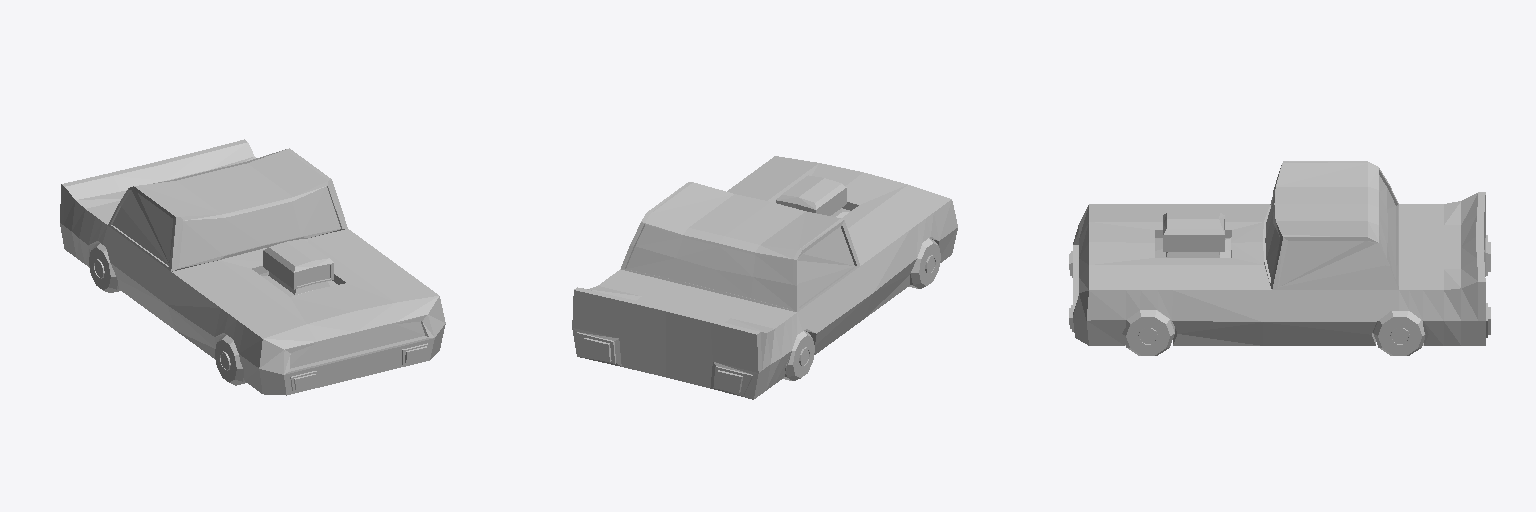
The model's file is RaceCar.obj.
3 renders of one model, left to right at view 1: azimuth 30°, elevation 25°; view 2: azimuth 150°, elevation 25°; view 3: azimuth 270°, elevation 25°, orthographic.
Visible parts, largest first — view 1: Body, FrontWheels, BackWheels; view 2: Body, FrontWheels, BackWheels; view 3: Body, FrontWheels, BackWheels.
Part boxes in pixels (x1,y1,x2,y2): Body: (60, 139, 445, 395); FrontWheels: (215, 334, 245, 385); BackWheels: (89, 243, 120, 292); Body: (572, 156, 957, 399); FrontWheels: (909, 238, 940, 288); BackWheels: (783, 331, 814, 380); Body: (1069, 161, 1490, 345); FrontWheels: (1122, 310, 1174, 355); BackWheels: (1373, 311, 1425, 355).
Size of the model in its own units: 0.4288 by 0.2371 by 0.8021.